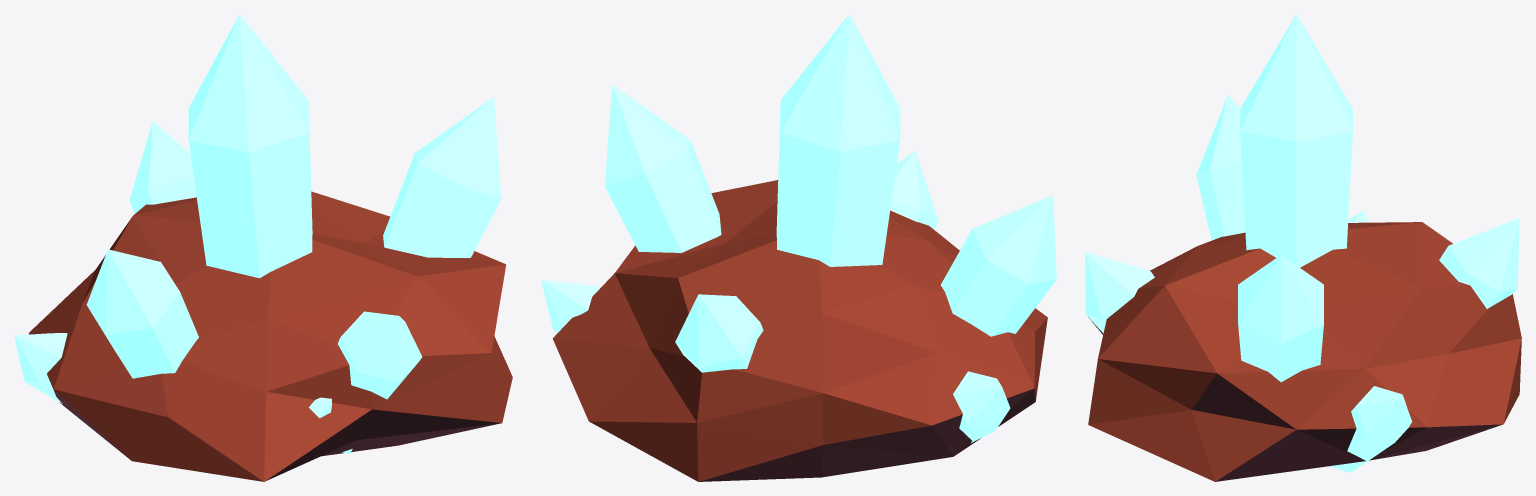
File: Rock_Crystal_Cluster_B.fbx
3 renders of one model, left to right at view 1: azimuth 30°, elevation 25°; view 2: azimuth 150°, elevation 25°; view 3: azimuth 270°, elevation 25°, orthographic. The views are drawn at different scales.
Visible parts, largest first — view 1: Rock_Crystal_Cluster_B; view 2: Rock_Crystal_Cluster_B; view 3: Rock_Crystal_Cluster_B.
Boxes of the visible parts, x1,y1,x2,y2 form: Rock_Crystal_Cluster_B: (14,14,512,481); Rock_Crystal_Cluster_B: (541,14,1056,481); Rock_Crystal_Cluster_B: (1085,14,1521,481).
Size of the model in its own units: 3.09 by 2.76 by 2.82.
